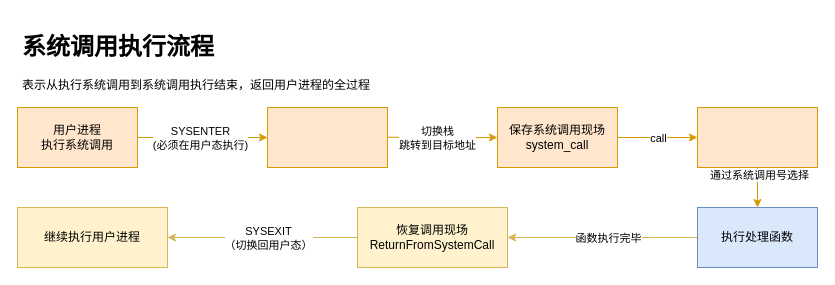
Some shapes in this 835 by 285 pixel diagram are drawn without their labels. Here are the shapes that lost their labels. From the top down, the centre of each, then its label:
the point at 327,137: 读取MSR寄存器
the point at 757,137: 系统调用分发器 SystemCallFunction
